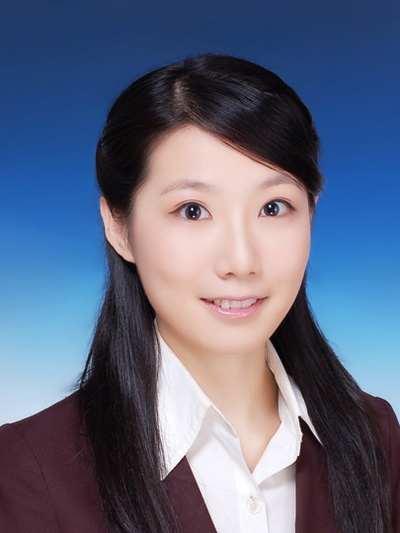unmask: (142, 146, 313, 340)
